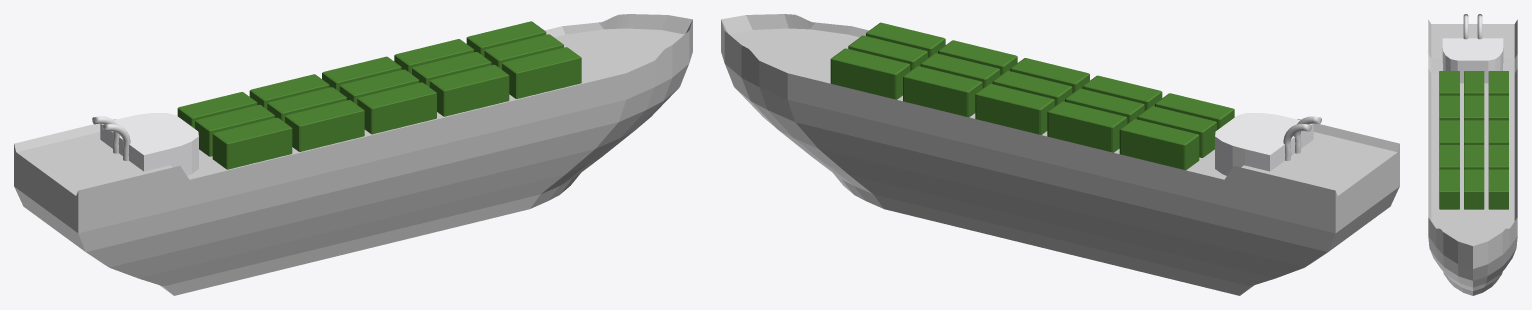
The model's file is main_ship.fbx.
The picture shows the model from 3 angles, left to right: view 1: azimuth 30°, elevation 25°; view 2: azimuth 150°, elevation 25°; view 3: azimuth 270°, elevation 25°; orthographic projection. The views are drawn at different scales.
Parts seen in each view (by area): view 1: Ship, Cube.001, Cube.011, Cube.014, Cube.013, Cube.012, Cube.015, Cube.006, Cube, Cube.008, Cube.005, Cube.002 (+6 smaller); view 2: Ship, Cube.001, Cube, Cube.002, Cube.005, Cube.003, Cube.004, Cube.006, Cube.011, Cube.009, Cube.012, Cube.010 (+6 smaller); view 3: Ship, Cube.001, Cube.015, Cube.005, Cube.010, Cube.012, Cube.002, Cube.007, Cube.003, Cube.004, Cube.006, Cube.008 (+6 smaller).
Boxes of the visible parts, x1=… form: Ship: x1=14, y1=14, x2=692, y2=295; Cube.001: x1=100, y1=113, x2=198, y2=175; Cube.011: x1=212, y1=117, x2=292, y2=169; Cube.014: x1=429, y1=64, x2=509, y2=116; Cube.013: x1=357, y1=82, x2=436, y2=134; Cube.012: x1=285, y1=100, x2=364, y2=151; Cube.015: x1=502, y1=47, x2=581, y2=98; Cube.006: x1=195, y1=104, x2=274, y2=156; Cube: x1=177, y1=92, x2=257, y2=128; Cube.008: x1=339, y1=69, x2=419, y2=104; Cube.005: x1=466, y1=21, x2=546, y2=56; Cube.002: x1=249, y1=74, x2=329, y2=109; Ship: x1=721, y1=14, x2=1399, y2=295; Cube.001: x1=1215, y1=113, x2=1313, y2=175; Cube: x1=1119, y1=119, x2=1199, y2=170; Cube.002: x1=1047, y1=101, x2=1127, y2=152; Cube.005: x1=830, y1=48, x2=910, y2=99; Cube.003: x1=975, y1=83, x2=1054, y2=134; Cube.004: x1=903, y1=66, x2=982, y2=117; Cube.006: x1=1137, y1=106, x2=1216, y2=157; Cube.011: x1=1155, y1=93, x2=1234, y2=129; Cube.009: x1=920, y1=53, x2=1000, y2=88; Cube.012: x1=1082, y1=75, x2=1162, y2=110; Cube.010: x1=848, y1=35, x2=927, y2=70; Ship: x1=1428, y1=19, x2=1517, y2=295; Cube.001: x1=1442, y1=38, x2=1503, y2=83; Cube.015: x1=1439, y1=169, x2=1459, y2=209; Cube.005: x1=1488, y1=169, x2=1508, y2=209; Cube.010: x1=1464, y1=169, x2=1484, y2=209; Cube.012: x1=1439, y1=95, x2=1459, y2=120; Cube.002: x1=1488, y1=95, x2=1508, y2=120; Cube.007: x1=1464, y1=95, x2=1484, y2=120; Cube.003: x1=1488, y1=120, x2=1508, y2=144; Cube.004: x1=1488, y1=145, x2=1508, y2=169; Cube.006: x1=1464, y1=71, x2=1484, y2=95; Cube.008: x1=1464, y1=120, x2=1484, y2=144.
Size of the model in its own units: 1164 by 297 by 200.
